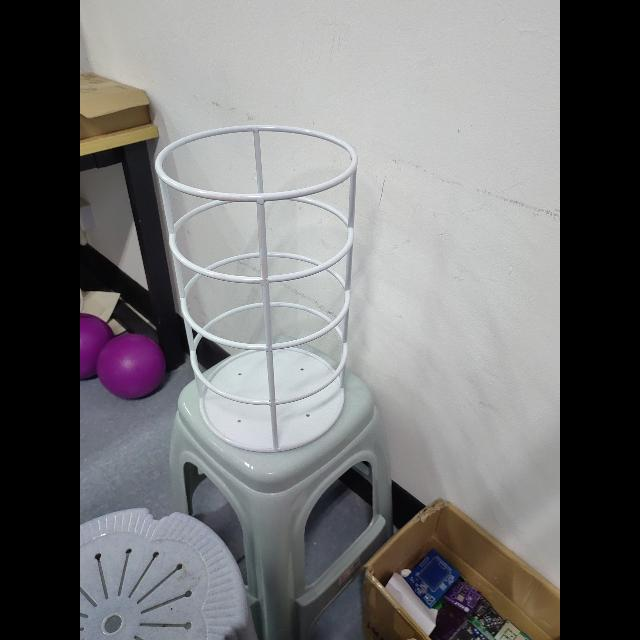S: (154, 122, 362, 460)
